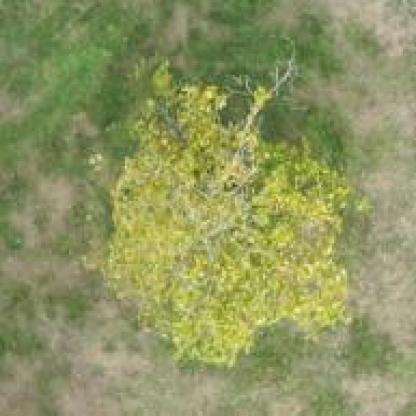Deciduous Tree: (92, 60, 369, 366)
